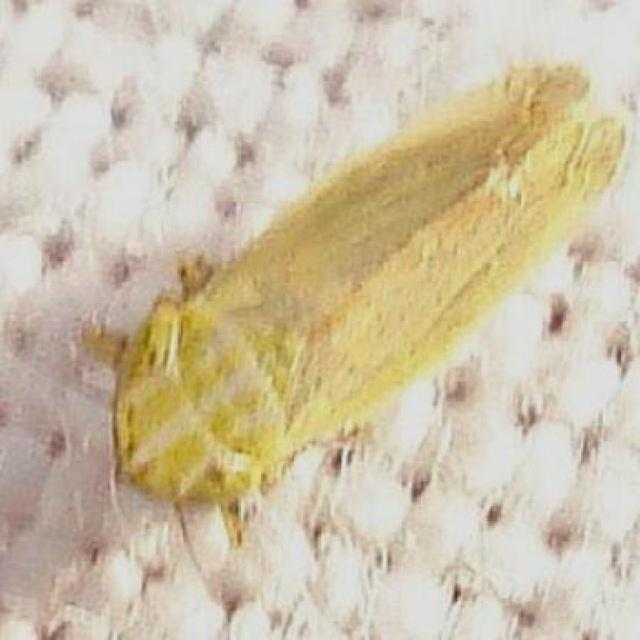green-leafhopper: (104, 58, 630, 537)
